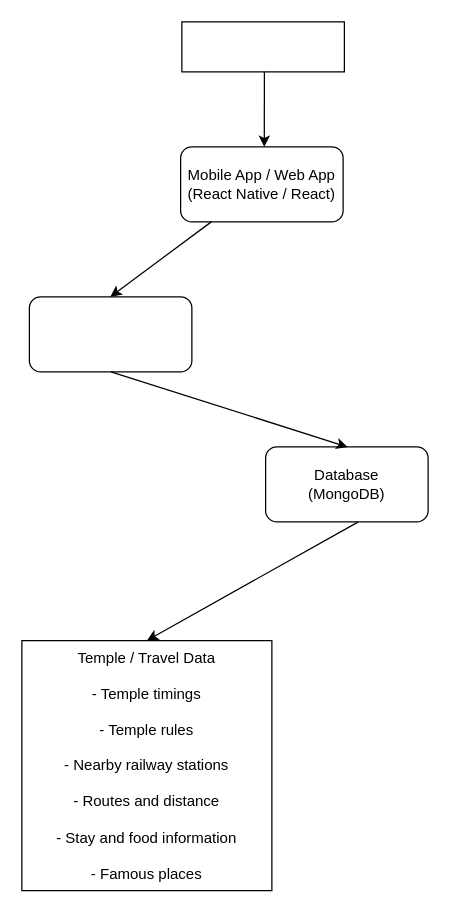
The diagram is 450 pixels wide and 913 high, and some of its shapes have lost their labels. Each missing label, with the centre of its shape:
Backend API (Node.js + Express): point (110, 334)
User: point (262, 46)
